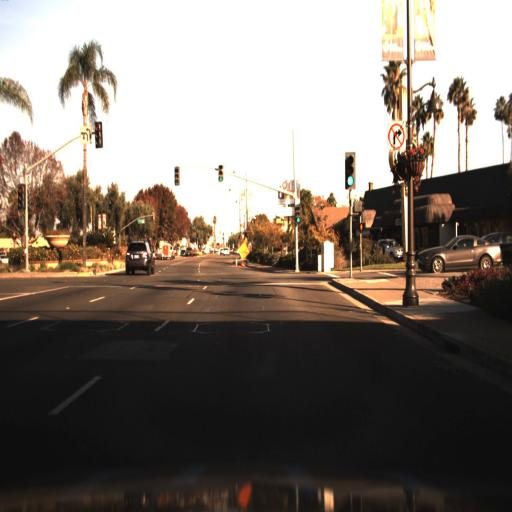car: (414, 230, 503, 274), (122, 238, 156, 278), (376, 236, 406, 266), (162, 238, 178, 266)
trafficLight-Green: (345, 149, 356, 193), (216, 162, 224, 184), (294, 204, 302, 224), (174, 164, 180, 188)
trafficLight-RedLeft: (93, 120, 102, 151)
